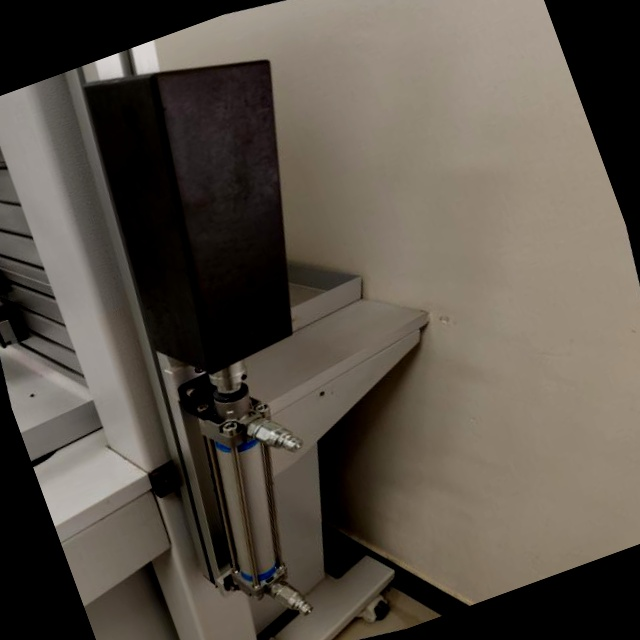load: (0, 0, 488, 640)
